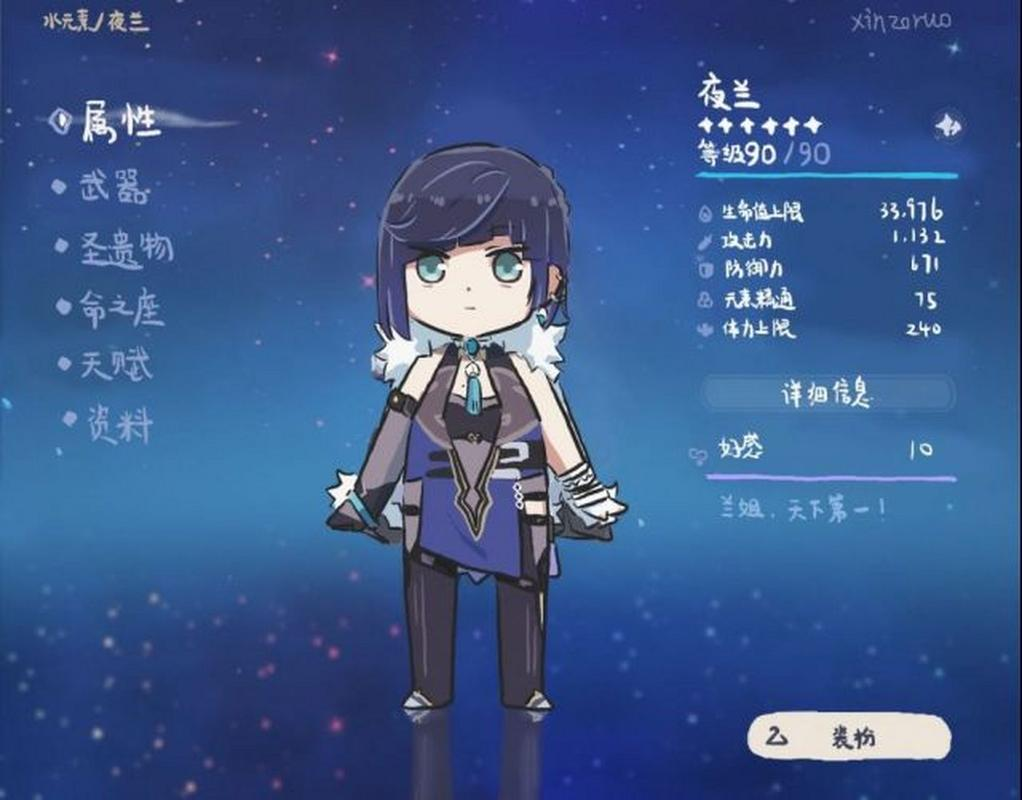夜兰: (314, 134, 634, 725)
